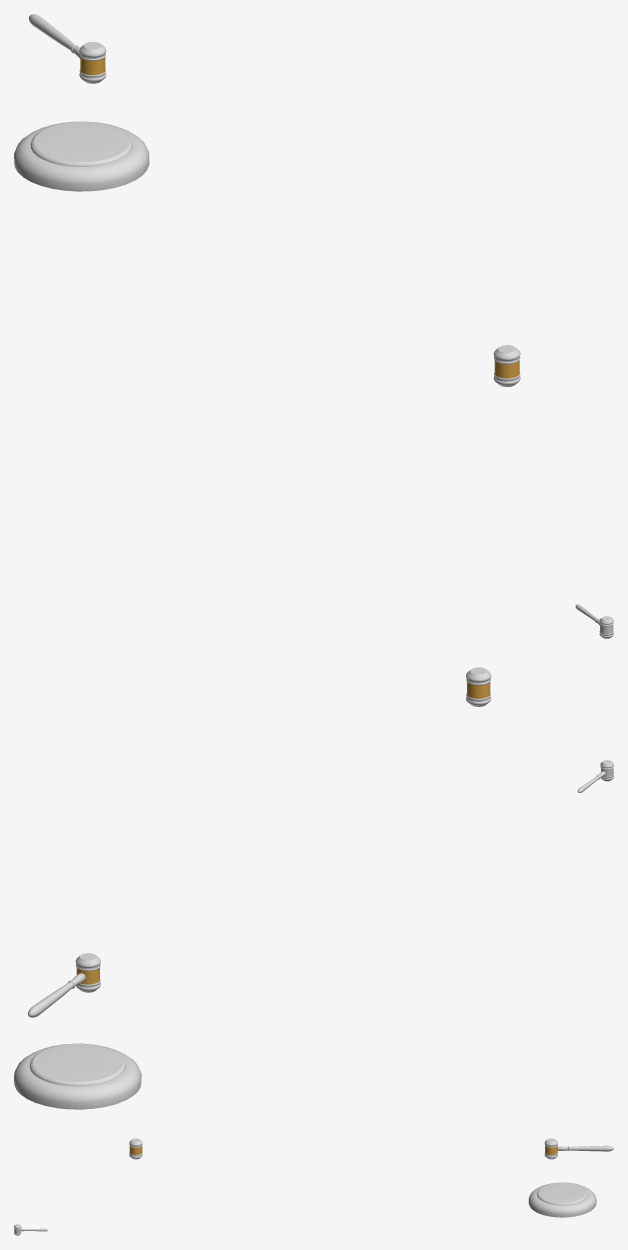
Rendered from Молоток.fbx.
3 renders of one model, top to bottom at view 1: azimuth 30°, elevation 25°; view 2: azimuth 150°, elevation 25°; view 3: azimuth 270°, elevation 25°, orthographic. The views are drawn at different scales.
Visible parts, largest first — view 1: Sphere.004, Sphere.002; view 2: Sphere.004, Sphere.002, Sphere.003; view 3: Sphere.004, Sphere.002, Sphere.003.
Boxes of the visible parts, bbox=[...] form: Sphere.004: bbox=[14, 121, 149, 191]; Sphere.002: bbox=[30, 122, 132, 166]; Sphere.004: bbox=[14, 1043, 141, 1109]; Sphere.002: bbox=[29, 1044, 125, 1086]; Sphere.003: bbox=[28, 974, 83, 1017]; Sphere.004: bbox=[528, 1182, 596, 1217]; Sphere.002: bbox=[537, 1182, 587, 1205]; Sphere.003: bbox=[559, 1145, 613, 1151].
Bounding box in the file's own units: 185 × 296 × 1629.
